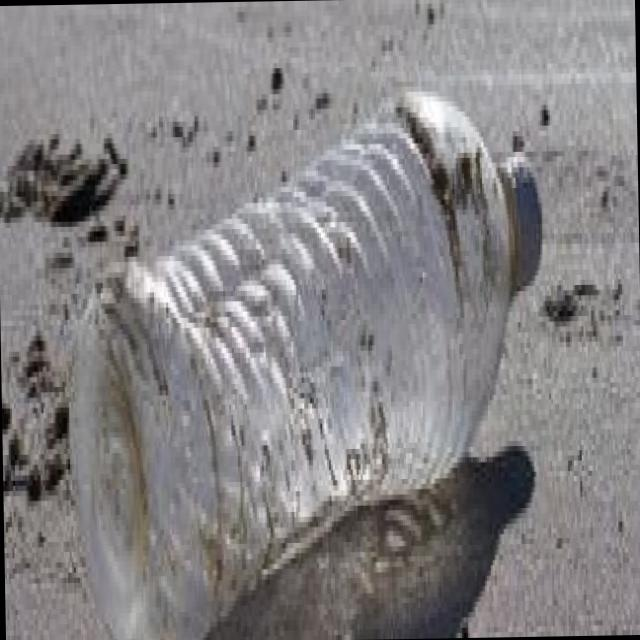general: (56, 78, 546, 640)
